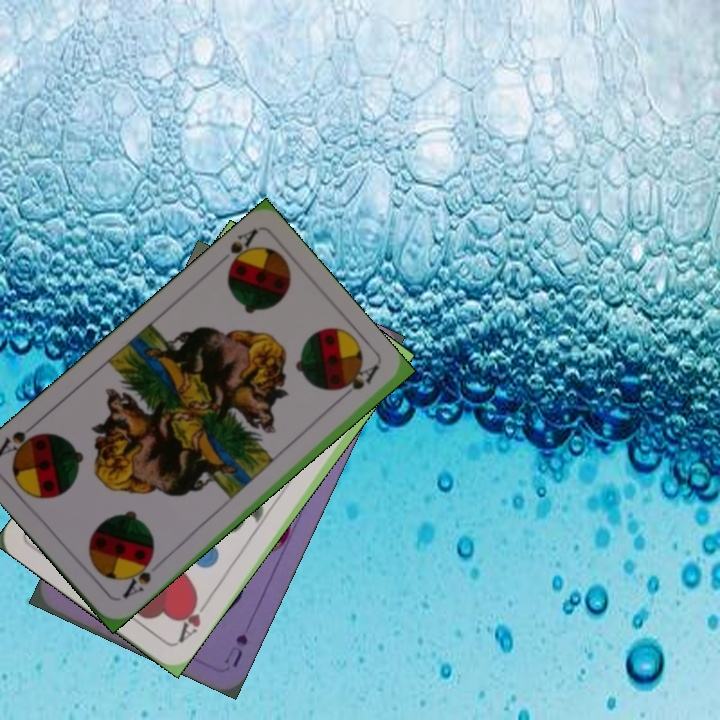HA: (174, 593, 213, 646)
SA: (222, 225, 262, 277), (118, 552, 157, 601)
SU: (220, 630, 251, 670)
